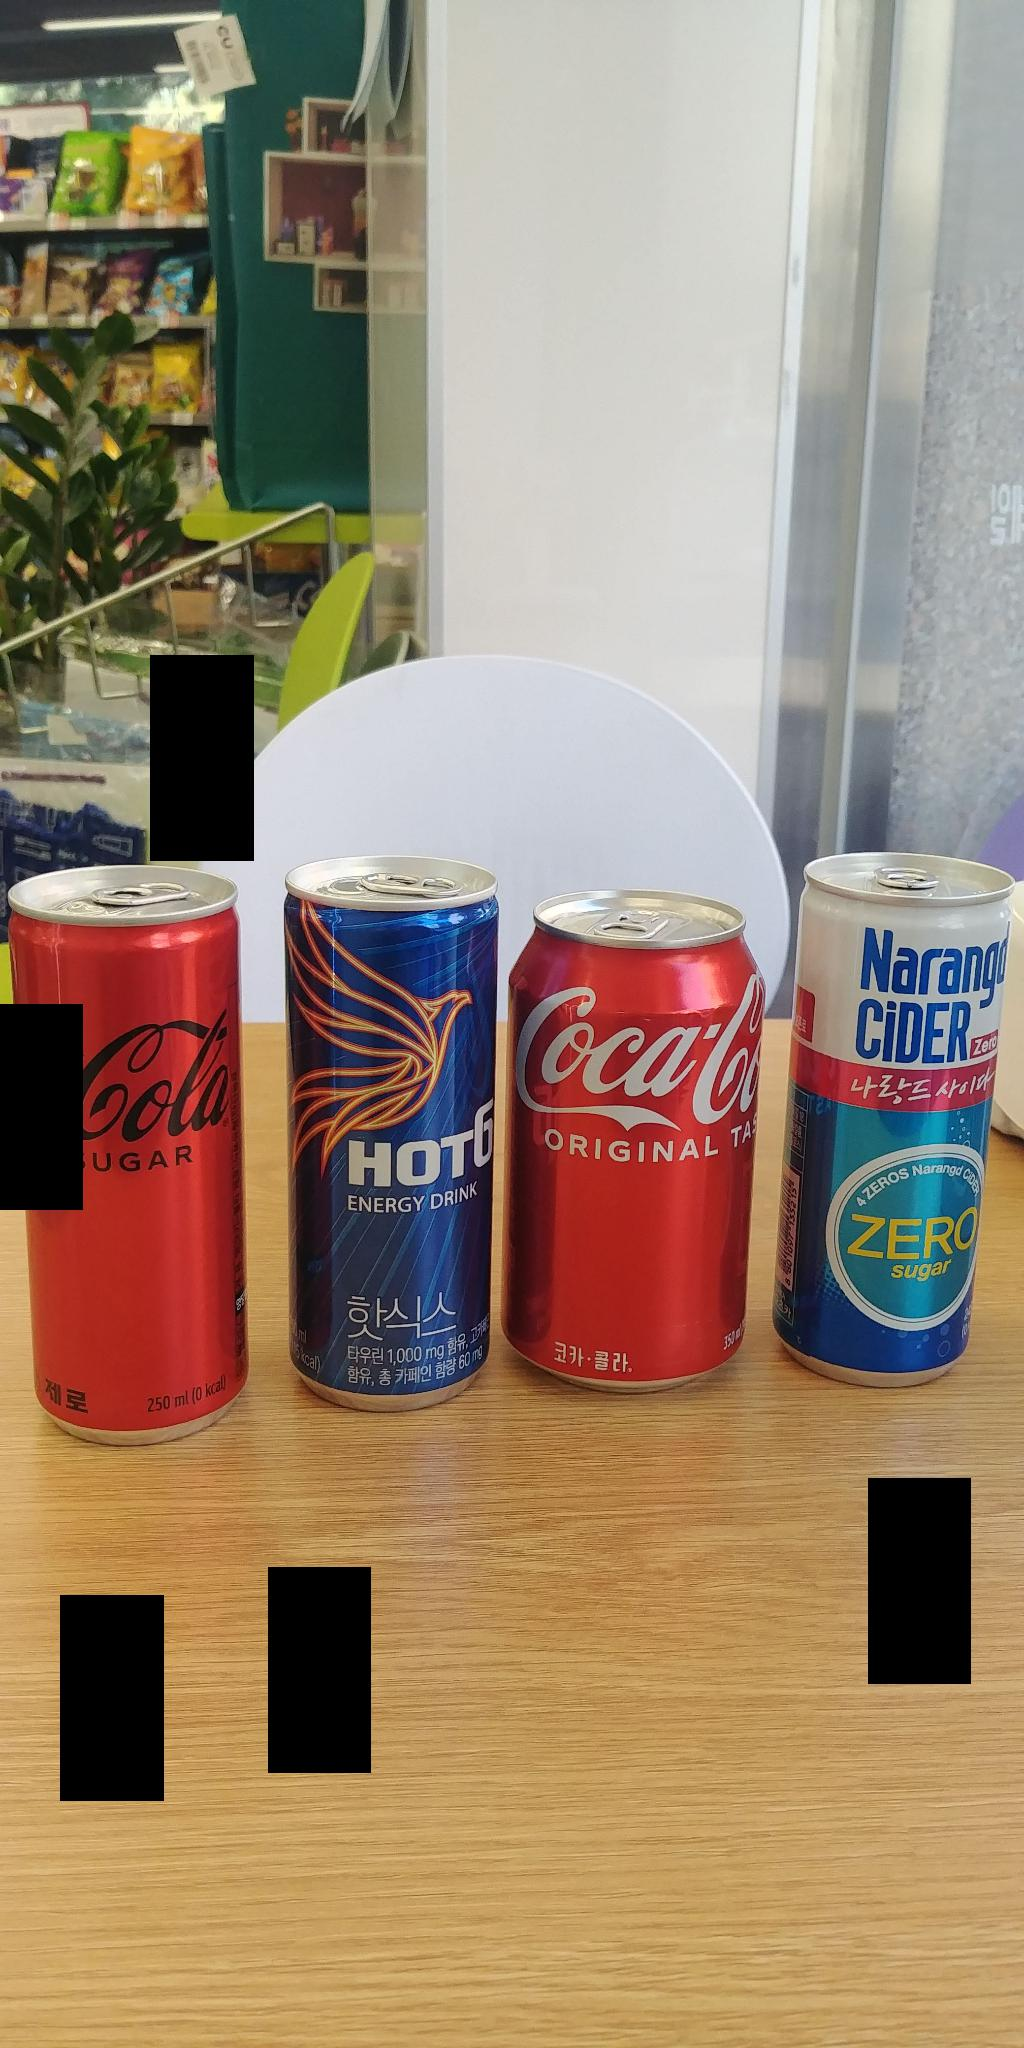cocacola: (519, 871, 754, 1394)
hotsix_org: (268, 846, 492, 1426)
narangdcider: (789, 837, 1007, 1381)
